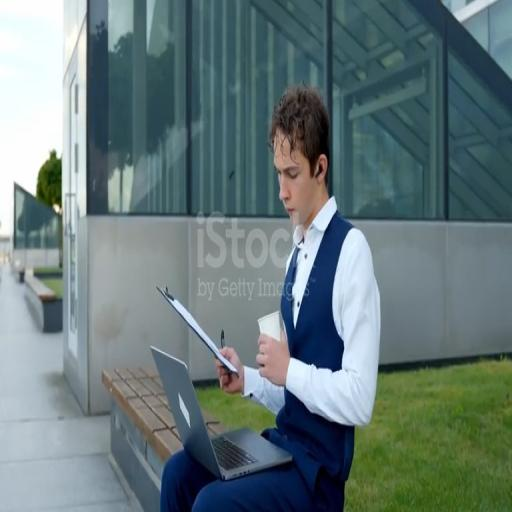earphone: (311, 155, 329, 183)
